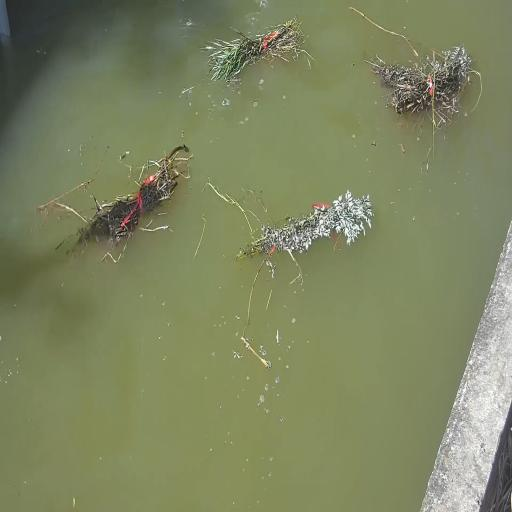twig: (61, 131, 183, 252), (228, 198, 361, 279), (369, 46, 471, 124), (194, 29, 303, 87)
